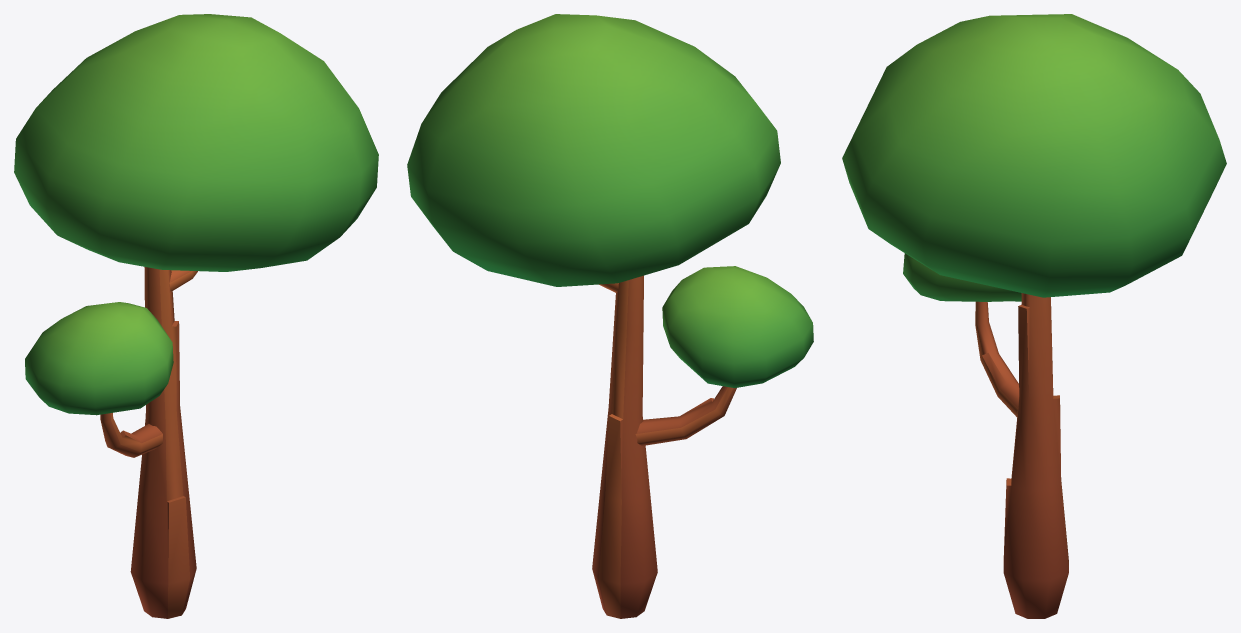
File: Tree_7_A_Color1.fbx
The picture shows the model from 3 angles, left to right: view 1: azimuth 30°, elevation 25°; view 2: azimuth 150°, elevation 25°; view 3: azimuth 270°, elevation 25°; orthographic projection. The views are drawn at different scales.
Visible parts, largest first — view 1: Tree_7_A_Color1; view 2: Tree_7_A_Color1; view 3: Tree_7_A_Color1.
Part boxes in pixels (x1,y1,x2,y2): Tree_7_A_Color1: (14, 14, 378, 618); Tree_7_A_Color1: (407, 14, 813, 618); Tree_7_A_Color1: (842, 14, 1226, 618).
Size of the model in its own units: 3.14 by 5.09 by 2.89.
